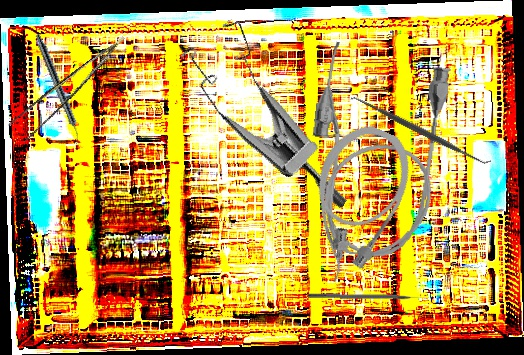Cannula: (298, 39, 453, 264), (282, 114, 424, 294)
Handpiece: (31, 32, 86, 146)
Hook Surgical: (307, 292, 430, 302)
Spatula Surgical: (348, 88, 493, 173)
Speculum: (156, 5, 397, 211)
Tissue Forceps: (4, 35, 140, 145)
